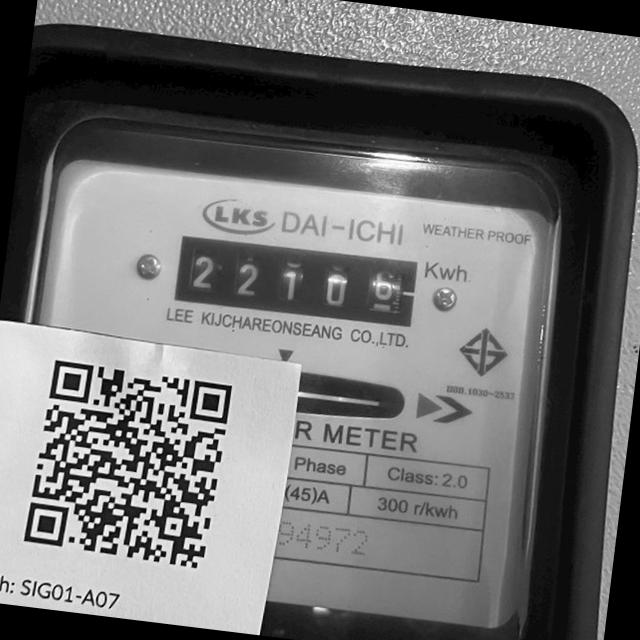qr_code: (18, 356, 237, 575)
